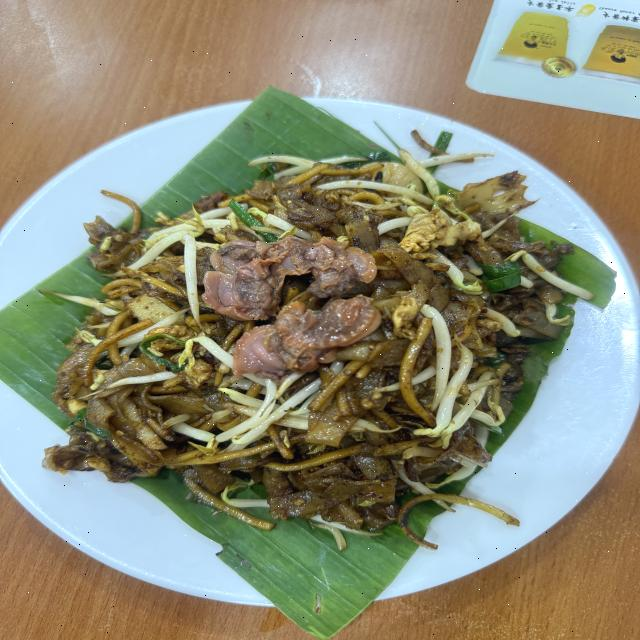Char Kway Teow: (7, 88, 607, 600)
